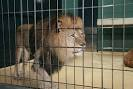lion: (14, 13, 85, 89)
